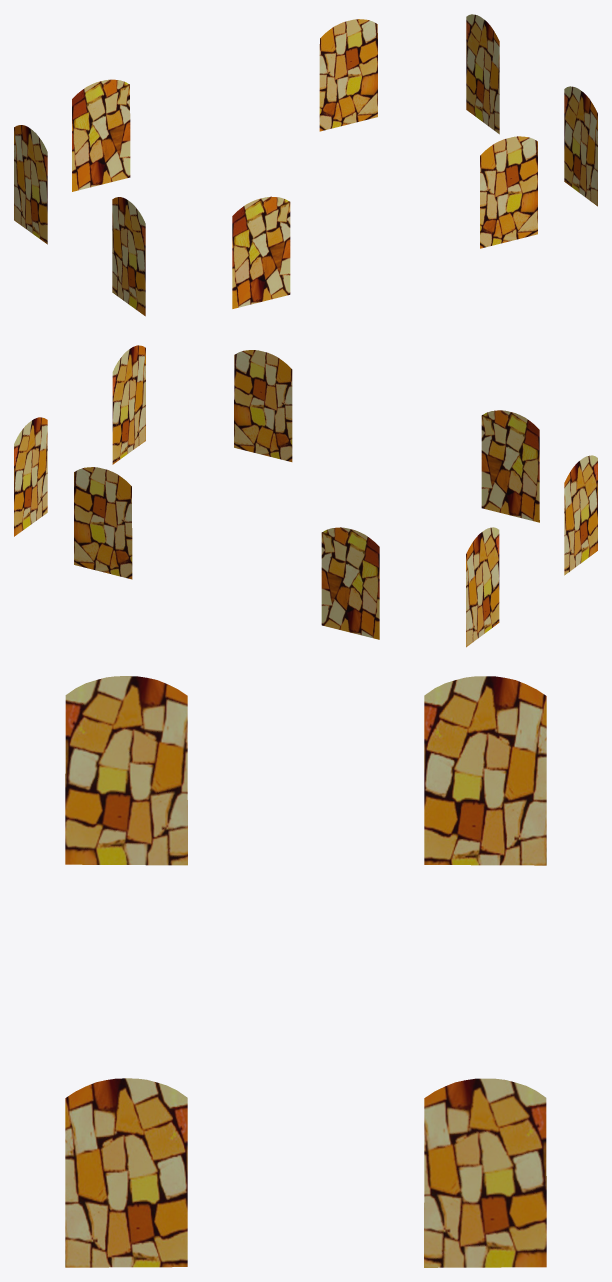
File: throne_window.obj
3 renders of one model, top to bottom at view 1: azimuth 30°, elevation 25°; view 2: azimuth 150°, elevation 25°; view 3: azimuth 270°, elevation 25°, orthographic. The views are drawn at different scales.
Visible parts, largest first — view 1: Plane.002_Plane.005; view 2: Plane.002_Plane.005; view 3: Plane.002_Plane.005.
Part boxes in pixels (x1=…): Plane.002_Plane.005: x1=14, y1=14, x2=597, y2=316; Plane.002_Plane.005: x1=14, y1=345, x2=597, y2=647; Plane.002_Plane.005: x1=65, y1=676, x2=546, y2=1267.
Bounding box in the file's own units: 68.5 × 15.08 × 42.
